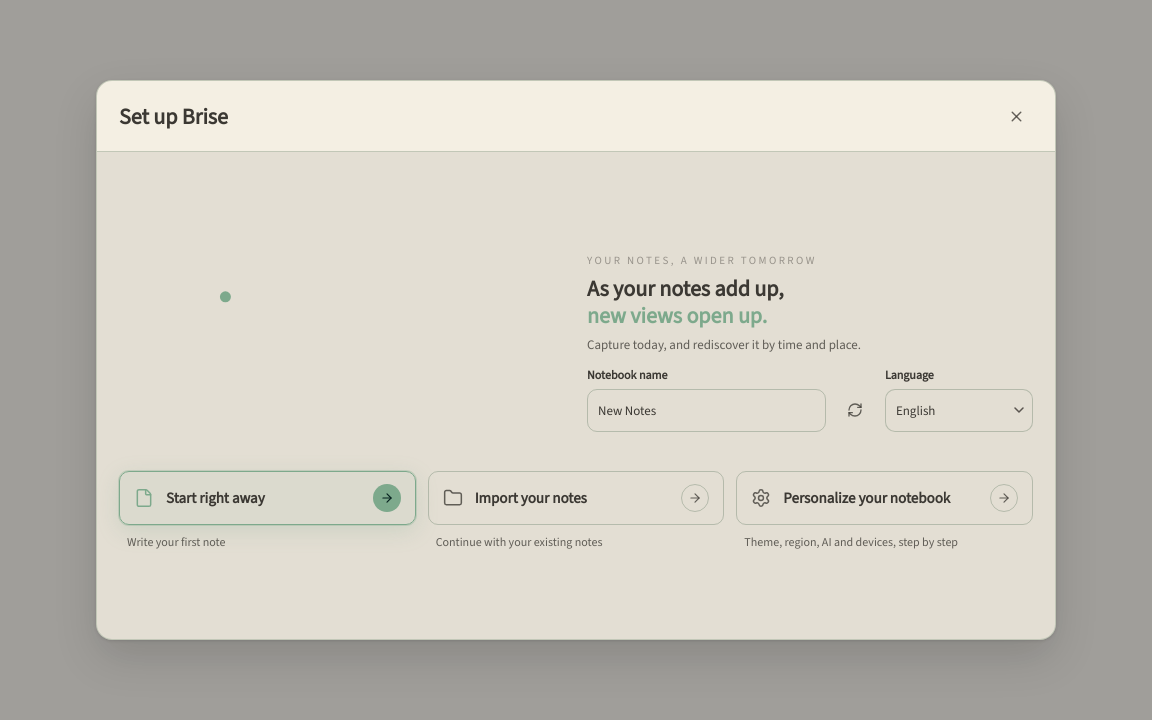
Test: OnboardingWizard › a seeded-name notebook gets a fun suggestion by default and the first screen holds the language; setup page 1 is theme only
Expected: the field showing "New Notes" is shown, [587,389,826,432]
Expected: the button with aria-label "Language" is shown, [885,389,1033,432]
Click the button with test id "onboarding-go-setup".
click(885, 498)  # box [736,470,1033,524]
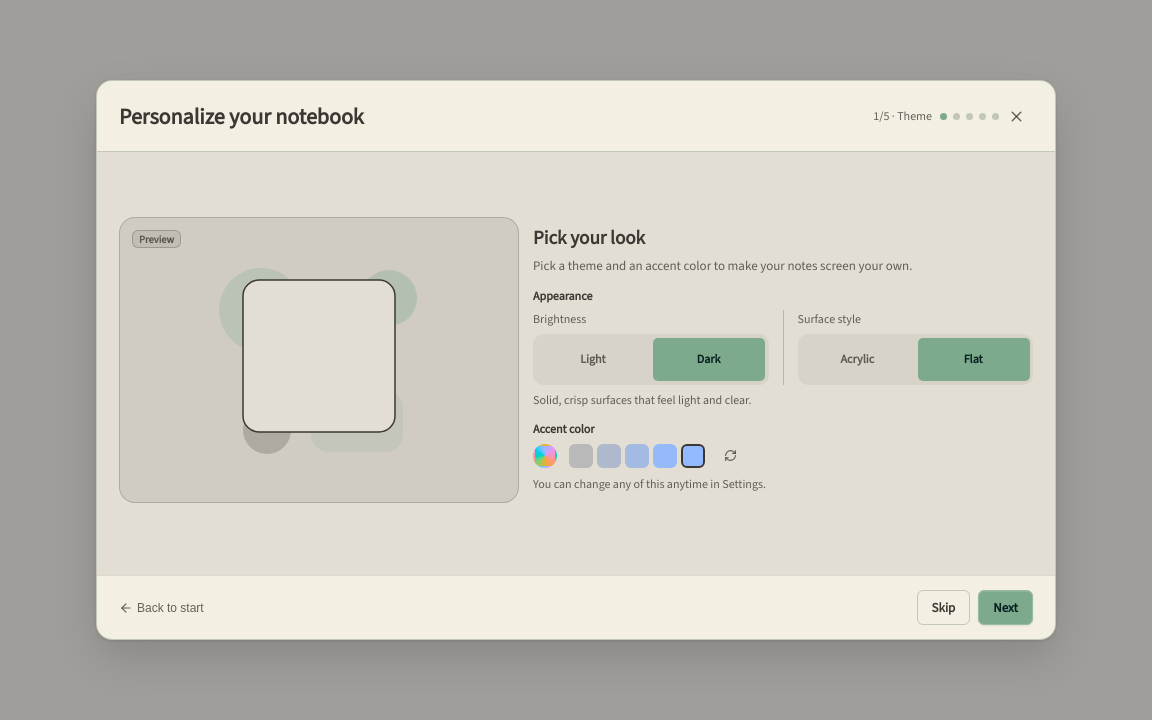
Expected: the field with test id "onboarding-notebook-name-input" is gone
Expected: the radio button labelled "Light" is shown, [537,338,649,381]
